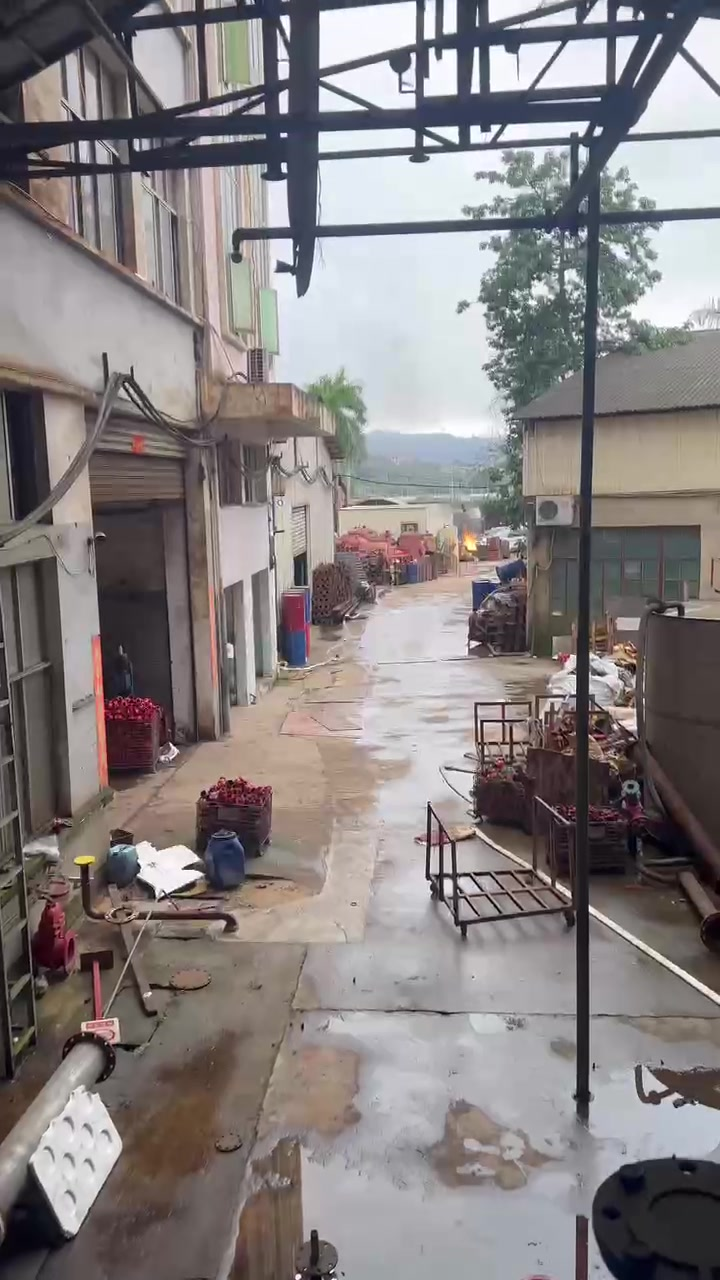fire: (463, 533, 478, 550)
